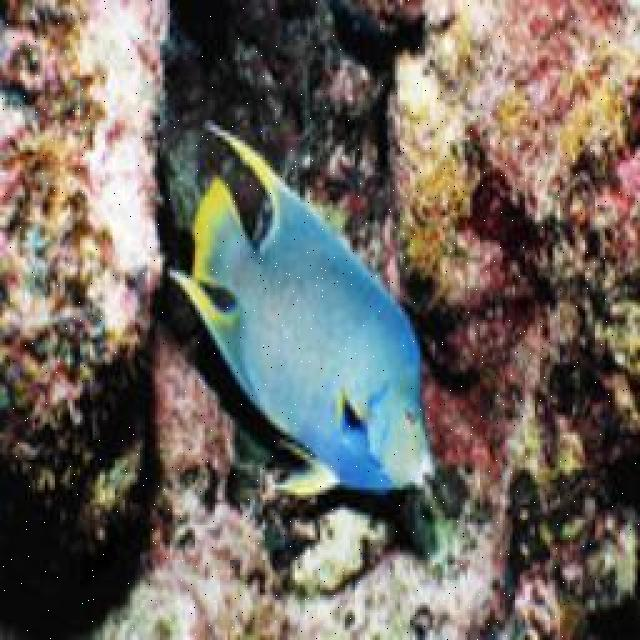fish: (167, 122, 439, 496)
